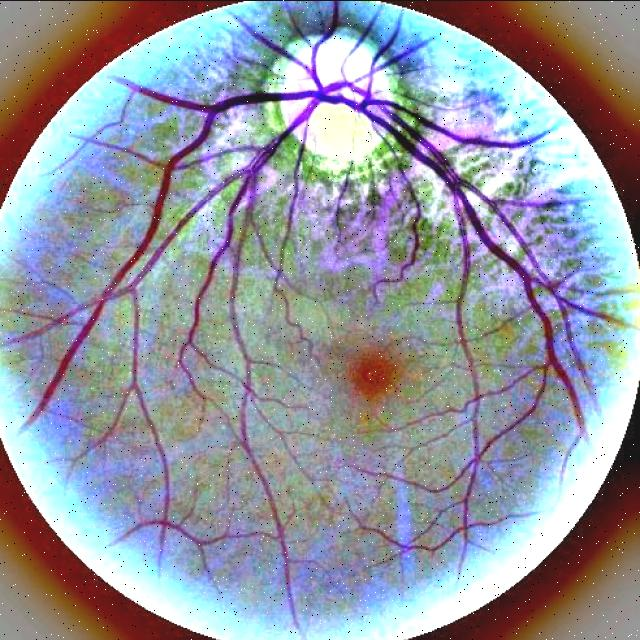Macula: (349, 354, 395, 401)
Nerves: (117, 22, 541, 286), (23, 176, 169, 427)
Optic Disk: (313, 29, 386, 100), (307, 104, 376, 165), (278, 62, 313, 91), (293, 38, 320, 66), (282, 100, 307, 121)
